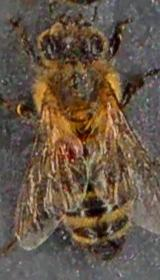varroa_mite: (51, 134, 98, 164)
